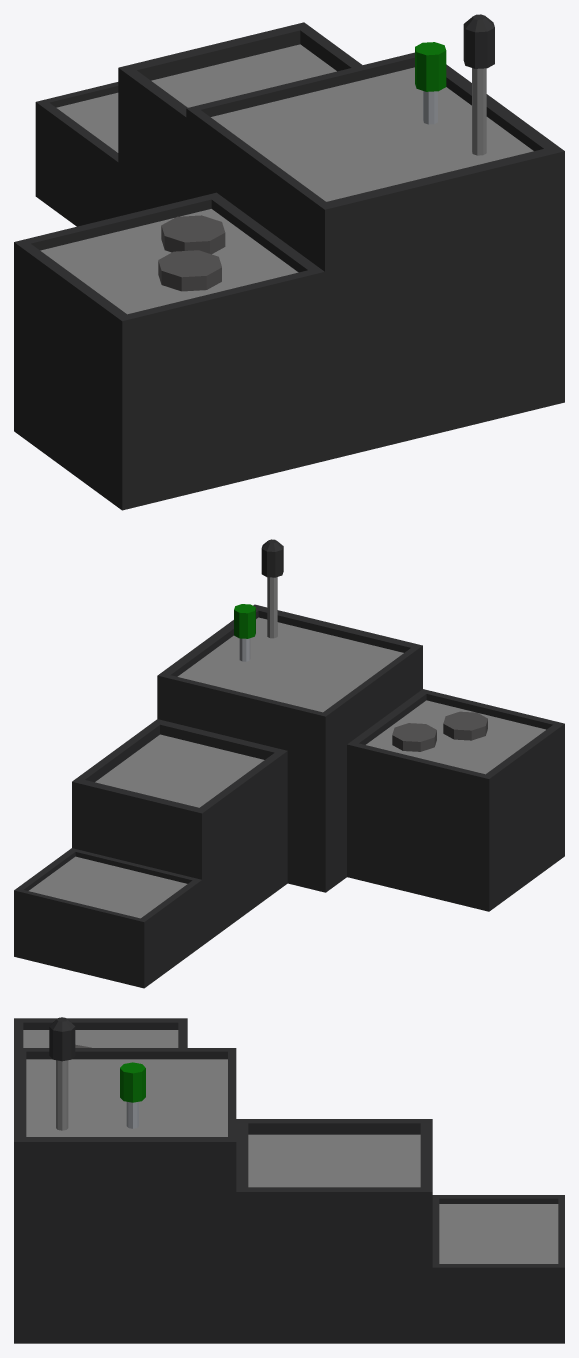
The model's file is Building_defaul_1.fbx.
The picture shows the model from 3 angles, top to bottom: view 1: azimuth 30°, elevation 25°; view 2: azimuth 150°, elevation 25°; view 3: azimuth 270°, elevation 25°; orthographic projection. The views are drawn at different scales.
Parts seen in each view (by area): view 1: Cube.002; view 2: Cube.002; view 3: Cube.002.
Boxes of the visible parts, x1,y1,x2,y2 form: Cube.002: [14, 14, 564, 510]; Cube.002: [14, 539, 564, 988]; Cube.002: [14, 1017, 564, 1343].
Bounding box in the file's own units: 369 × 300 × 495.
